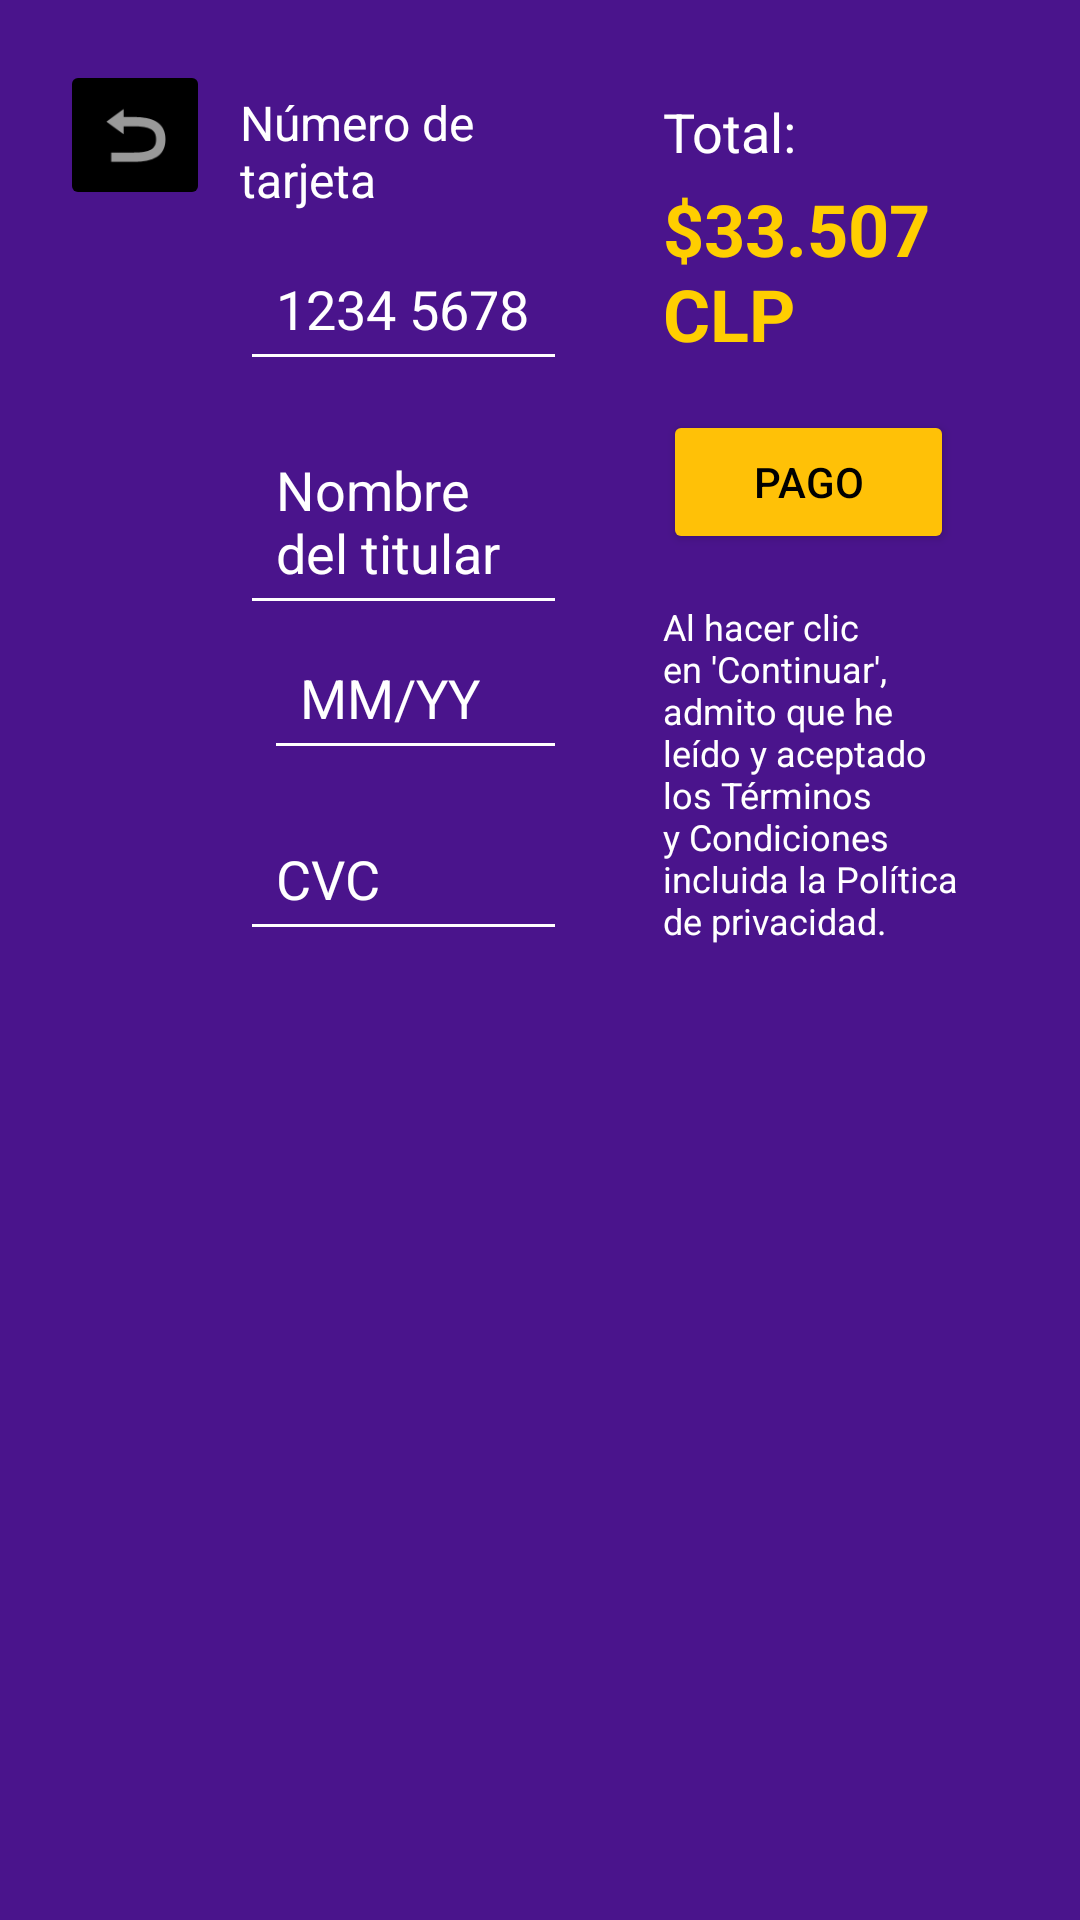

Where to tap for icons on this 1080*1920 app screen, as [x,y]:
volver atras: [135,135]
